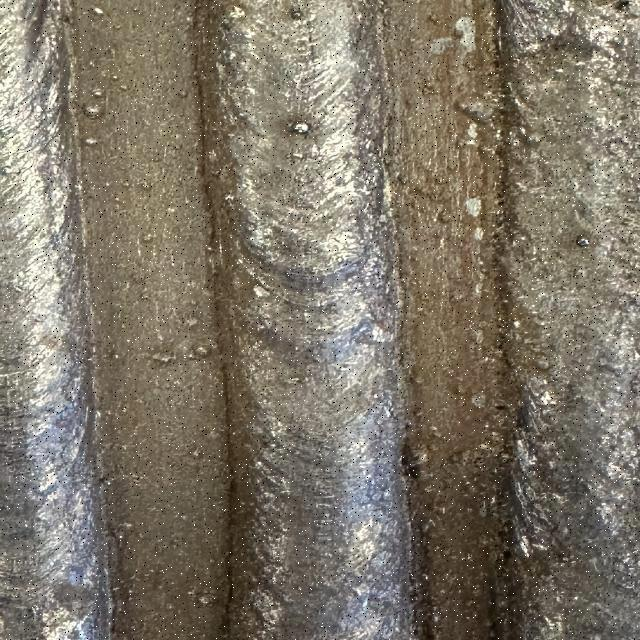Spatters: (290, 121, 312, 135), (83, 105, 103, 119), (193, 344, 210, 359), (577, 236, 590, 248), (83, 138, 98, 145), (92, 89, 103, 98), (192, 448, 200, 458), (93, 8, 103, 15), (113, 354, 118, 359)
